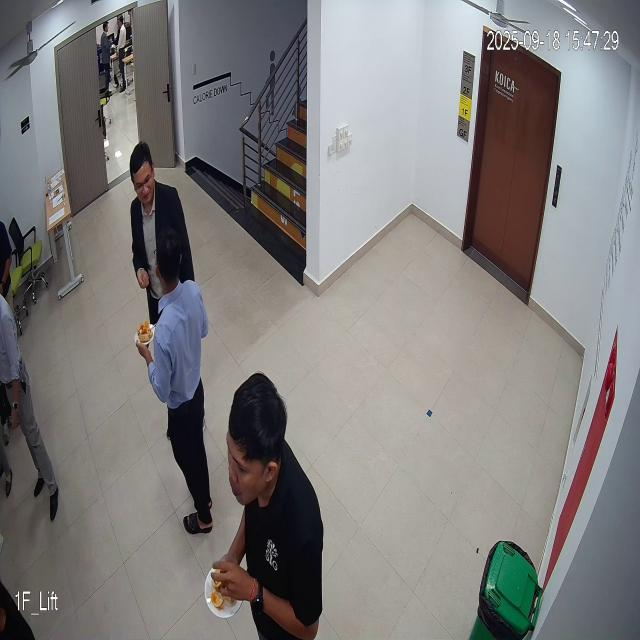face: (128, 139, 158, 207)
